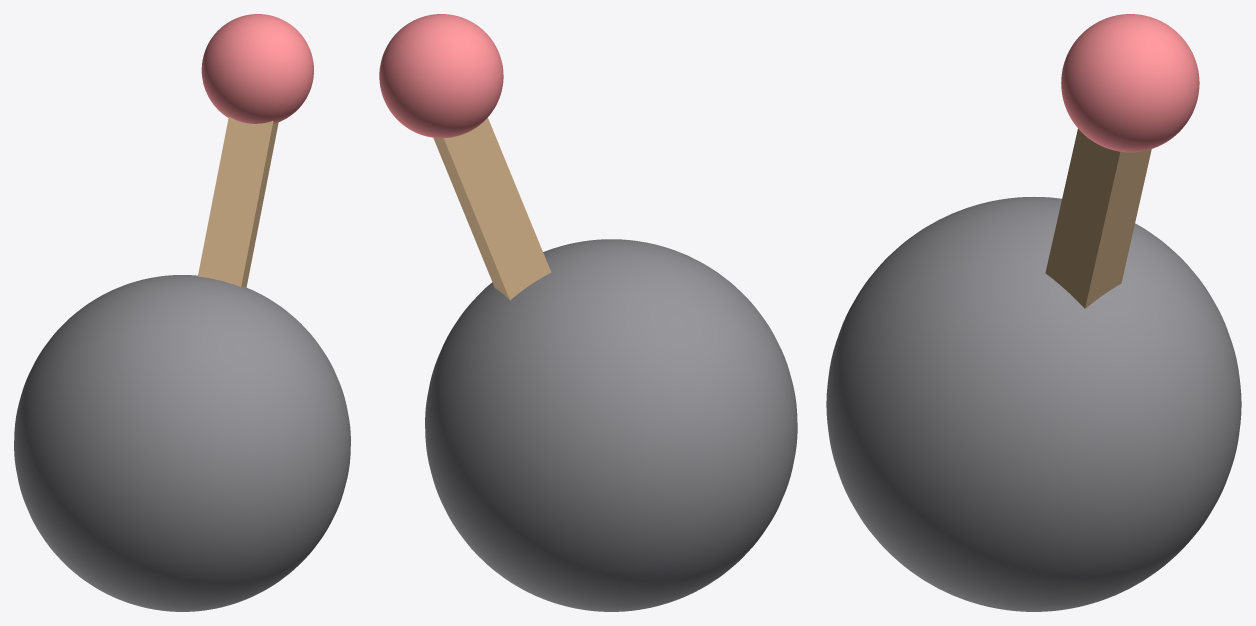
File: mine.gltf
3 renders of one model, left to right at view 1: azimuth 30°, elevation 25°; view 2: azimuth 150°, elevation 25°; view 3: azimuth 270°, elevation 25°, orthographic. The views are drawn at different scales.
Parts seen in each view (by area): view 1: Sphere (×2), Cube; view 2: Sphere (×2), Cube; view 3: Sphere (×2), Cube.
Part boxes in pixels (x1,y1,x2,y2): Sphere (×2): [14, 14, 350, 611]; Cube: [198, 116, 278, 287]; Sphere (×2): [379, 14, 797, 611]; Cube: [433, 117, 551, 300]; Sphere (×2): [826, 14, 1241, 611]; Cube: [1045, 129, 1151, 308].
Size of the model in its own units: 0.6353 by 1.02 by 0.6.
